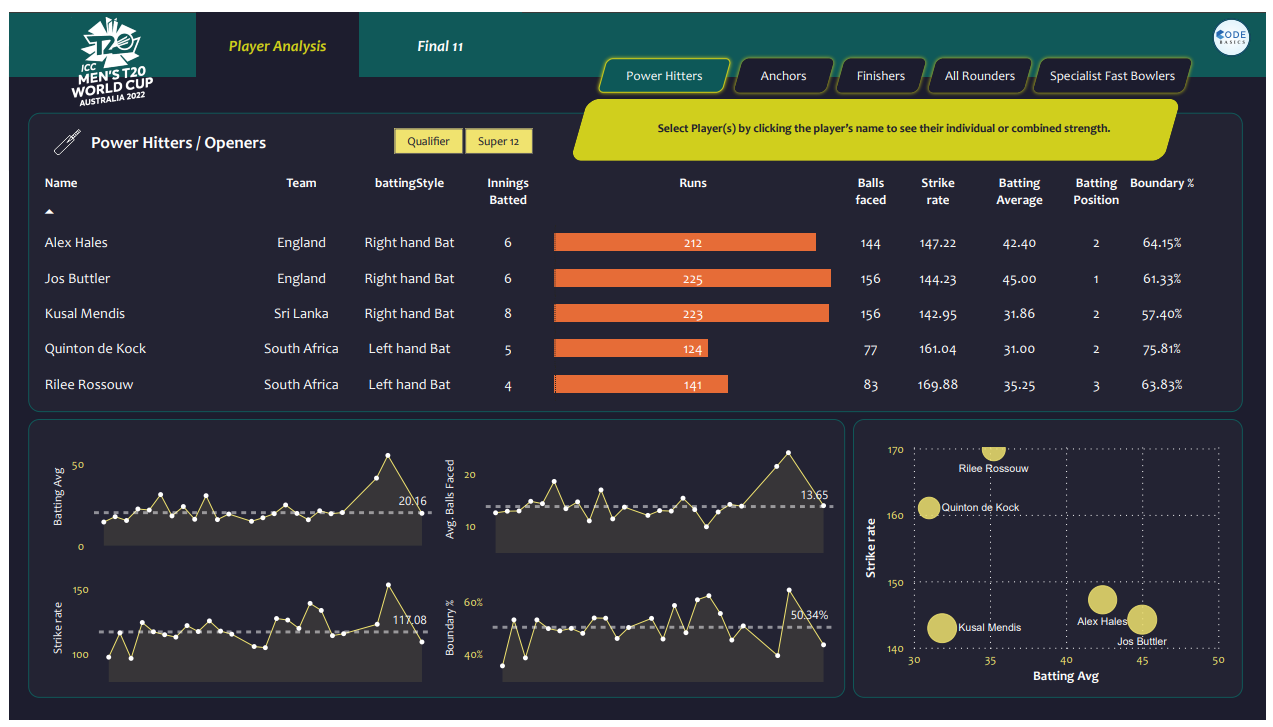

This screenshot's page, from the dashboard's own definition file:
{"tool":"powerbi","page":{"name":"Project - Sportan","canvas":[1280,720],"ordinal":0},"visuals":[{"type":"shape","box":[0,66,1280,654],"z":0},{"type":"card","fields":{"Values":["Key_Measures.Strike rate"]},"box":[867,89,93,60],"z":0,"group":"g2"},{"type":"group","id":"g1","title":"Group 2","box":[83.8,116.2,260,31.2],"z":0,"group":"g3"},{"type":"shape","box":[83.8,116.2,260,31.2],"z":0,"group":"g1"},{"type":"card","fields":{"Values":["Key_Measures.Bat Avg"]},"box":[768,89,92,60],"z":1000,"group":"g2"},{"type":"image","box":[38,114,44,36],"z":1000,"group":"g3"},{"type":"shape","box":[20,414.4,832.2,283.3],"z":1000},{"type":"actionButton","box":[734,42.6,111,42],"z":2000},{"type":"card","fields":{"Values":["Key_Measures.Boundary %"]},"box":[1063.6,92.3,110,56.7],"z":2000,"group":"g2"},{"type":"actionButton","box":[596,42.6,144,42],"z":3000},{"type":"card","fields":{"Values":["Key_Measures.Avergate Balls Faced"]},"box":[966,89,101,60],"z":3000,"group":"g2"},{"type":"actionButton","box":[838,42.6,101,42],"z":4000},{"type":"actionButton","box":[932,42.6,115,42],"z":5000},{"type":"actionButton","box":[1039,42.6,171,42],"z":6000},{"type":"image","box":[19.8,0,171.5,100.6],"z":7000},{"type":"areaChart","fields":{"Category":["dim_match_summary.Match_Date.Variation.Date Hierarchy.Day"],"Y":["Key_Measures.Boundary %"]},"box":[438.8,560,406.2,126.2],"z":9000},{"type":"shape","box":[860,414,397,284],"z":10000},{"type":"areaChart","fields":{"Category":["dim_match_summary.Match_Date.Variation.Date Hierarchy.Day"],"Y":["Key_Measures.Avergate Balls Faced"]},"box":[438.8,428.8,406.2,126.2],"z":11000},{"type":"areaChart","fields":{"Category":["dim_match_summary.Match_Date.Variation.Date Hierarchy.Day"],"Y":["Key_Measures.Bat Avg"]},"box":[40,428.9,395.6,126.7],"z":12000},{"type":"areaChart","fields":{"Category":["dim_match_summary.Match_Date.Variation.Date Hierarchy.Day"],"Y":["Key_Measures.Strike rate"]},"box":[40,560,396.2,126.2],"z":13000},{"type":"shape","box":[20,102.2,1236.7,304.4],"z":14000},{"type":"slicer","fields":{"Values":["dim_match_summary.stage"]},"box":[366.7,111.1,191.1,38.9],"z":15000},{"type":"shape","box":[572,88,622,63],"z":16000},{"type":"shape","box":[591,103,173,34],"z":17000},{"type":"group","id":"g2","title":"Combined Perfoamce Metrices","box":[768,89,405.6,60],"z":18000},{"type":"group","id":"g3","title":"Group 1","box":[38,114,305.8,36],"z":19000},{"type":"tableEx","fields":{"Values":["dim_player.name","dim_player.team","dim_player.Batting Style","Key_Measures.Total Matches","Key_Measures.Total Runs","Key_Measures.total balls faced","Key_Measures.Strike rate","Key_Measures.Bat Avg","Key_Measures.Batting Position","Key_Measures.Boundary %"]},"box":[26,151,1231,255],"z":20000},{"type":"scatterChart","fields":{"Y":["Key_Measures.Strike rate"],"Category":["dim_player.name"],"X":["Key_Measures.Bat Avg"],"Size":["Key_Measures.Total Runs"]},"box":[866.7,430,377.8,258.9],"z":21000},{"type":"actionButton","title":"Button Player Ana selected","box":[191,0,166,66],"z":22000},{"type":"actionButton","title":"Button Player Ana selected","box":[357,0,166,66],"z":23000},{"type":"shape","box":[612,100,560,36],"z":24000},{"type":"image","box":[1210.4,0,69.4,51],"z":24001}]}

Visuals, with their boxes in screenshot pixels (x1, y1, x2, y2), scaled from the page's 1280x720 canvas onto the 1273x727 screenshot:
shape: bbox=(0, 67, 1272, 726)
card - Key_Measures.Strike rate: bbox=(862, 90, 955, 150)
"Group 2" group: bbox=(83, 117, 342, 149)
shape: bbox=(83, 117, 342, 149)
card - Key_Measures.Bat Avg: bbox=(764, 90, 855, 150)
image: bbox=(38, 115, 82, 151)
shape: bbox=(20, 418, 848, 704)
actionButton: bbox=(730, 43, 840, 85)
card - Key_Measures.Boundary %: bbox=(1058, 93, 1167, 150)
actionButton: bbox=(593, 43, 736, 85)
card - Key_Measures.Avergate Balls Faced: bbox=(961, 90, 1061, 150)
actionButton: bbox=(833, 43, 934, 85)
actionButton: bbox=(927, 43, 1041, 85)
actionButton: bbox=(1033, 43, 1203, 85)
image: bbox=(20, 0, 190, 102)
areaChart - dim_match_summary.Match_Date.Variation.Date Hierarchy.Day x Key_Measures.Boundary %: bbox=(436, 565, 840, 693)
shape: bbox=(855, 418, 1250, 705)
areaChart - dim_match_summary.Match_Date.Variation.Date Hierarchy.Day x Key_Measures.Avergate Balls Faced: bbox=(436, 433, 840, 560)
areaChart - dim_match_summary.Match_Date.Variation.Date Hierarchy.Day x Key_Measures.Bat Avg: bbox=(40, 433, 433, 561)
areaChart - dim_match_summary.Match_Date.Variation.Date Hierarchy.Day x Key_Measures.Strike rate: bbox=(40, 565, 434, 693)
shape: bbox=(20, 103, 1250, 411)
slicer - dim_match_summary.stage: bbox=(365, 112, 555, 151)
shape: bbox=(569, 89, 1187, 152)
shape: bbox=(588, 104, 760, 138)
"Combined Perfoamce Metrices" group: bbox=(764, 90, 1167, 150)
"Group 1" group: bbox=(38, 115, 342, 151)
tableEx - dim_player.name x dim_player.team: bbox=(26, 152, 1250, 410)
scatterChart - Key_Measures.Strike rate x dim_player.name: bbox=(862, 434, 1238, 696)
"Button Player Ana selected" actionButton: bbox=(190, 0, 355, 67)
"Button Player Ana selected" actionButton: bbox=(355, 0, 520, 67)
shape: bbox=(609, 101, 1166, 137)
image: bbox=(1204, 0, 1272, 51)
